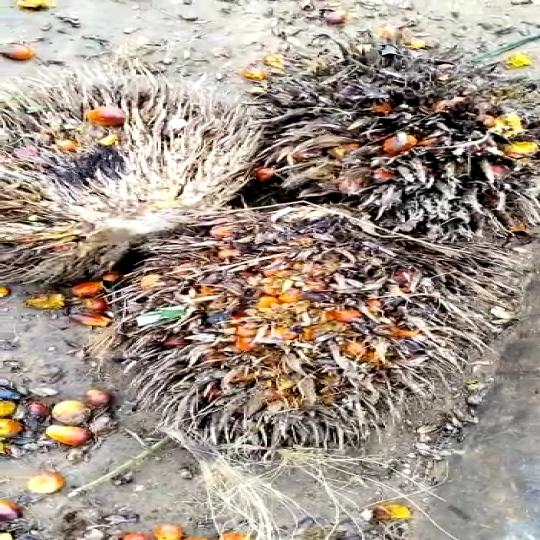terlalu masak: (0, 86, 281, 269)
